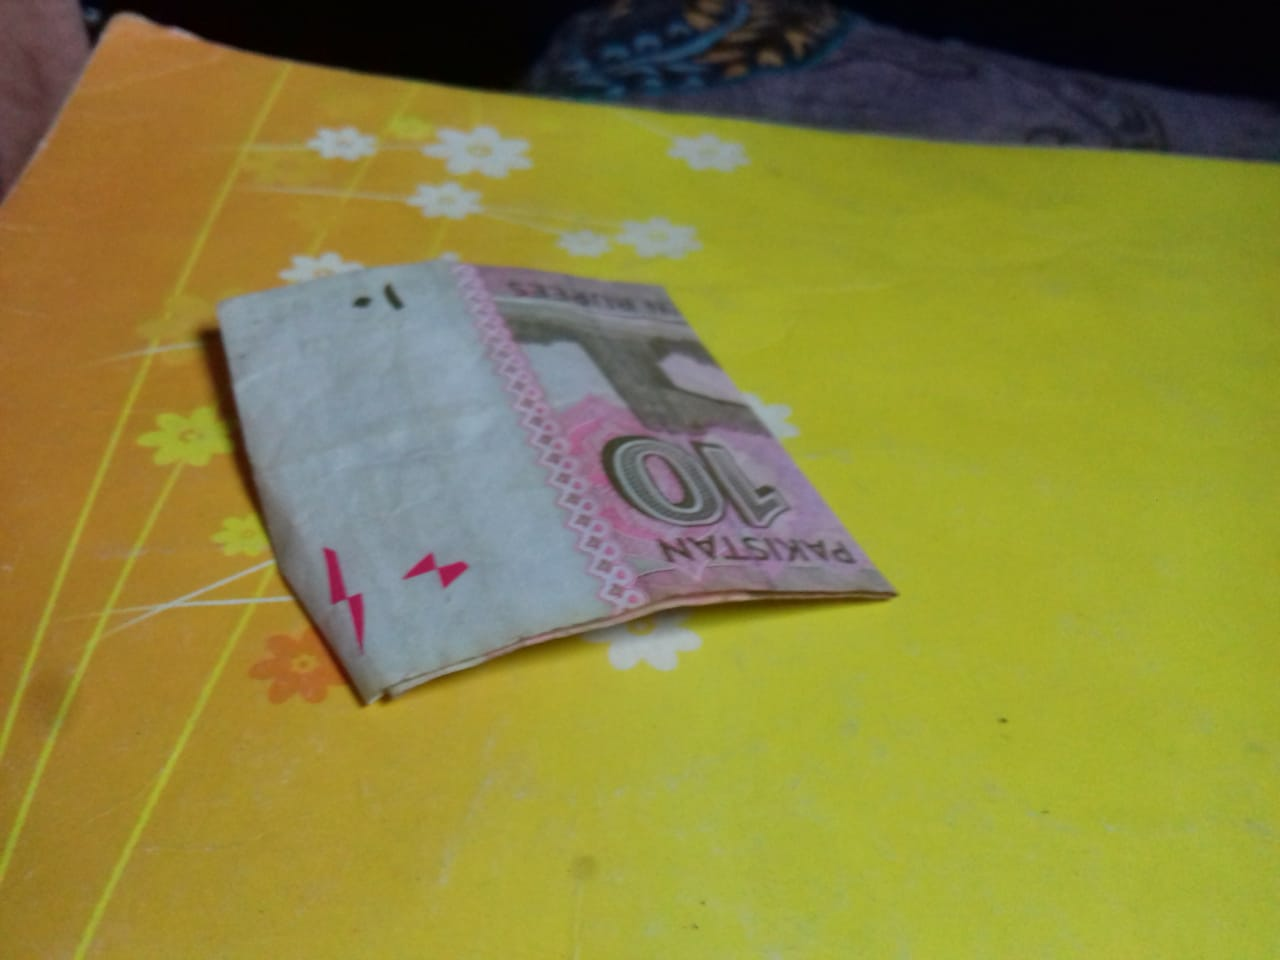10 rupee: (201, 227, 920, 717)
